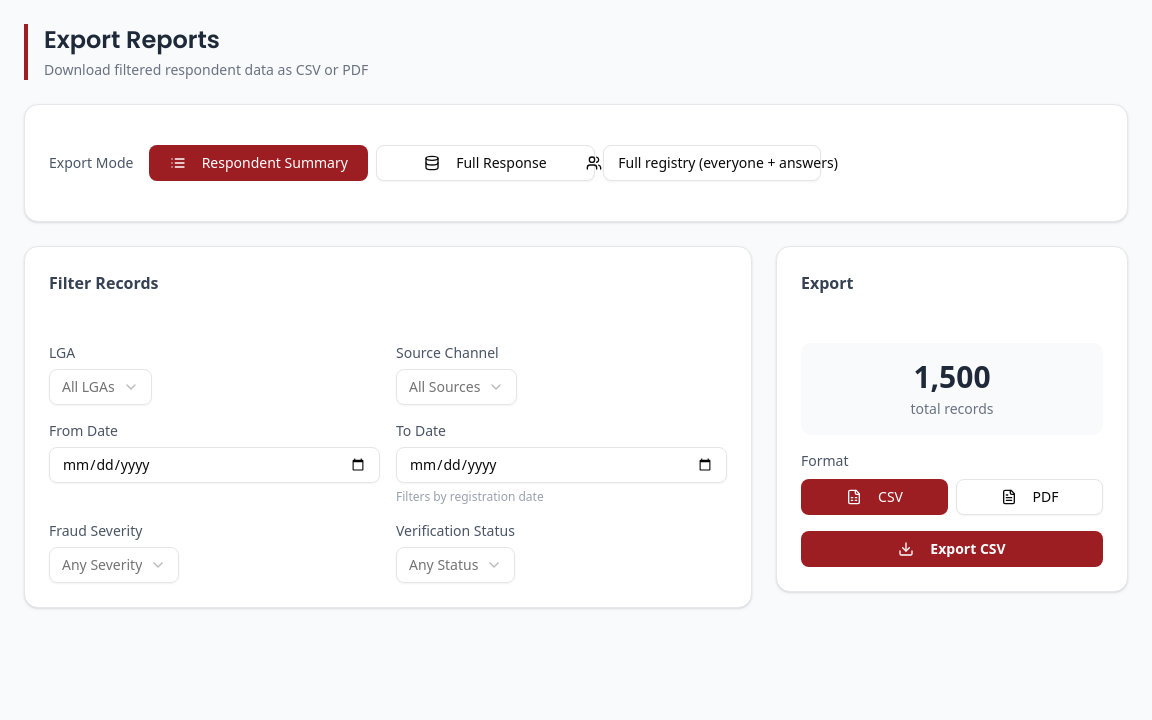
Test: ExportPage › PDF warning shown when count > 1000 and PDF selected
Note: Select PDF format
Click the button with test id "format-pdf" at x=1030, y=497, box [956,479,1103,515]
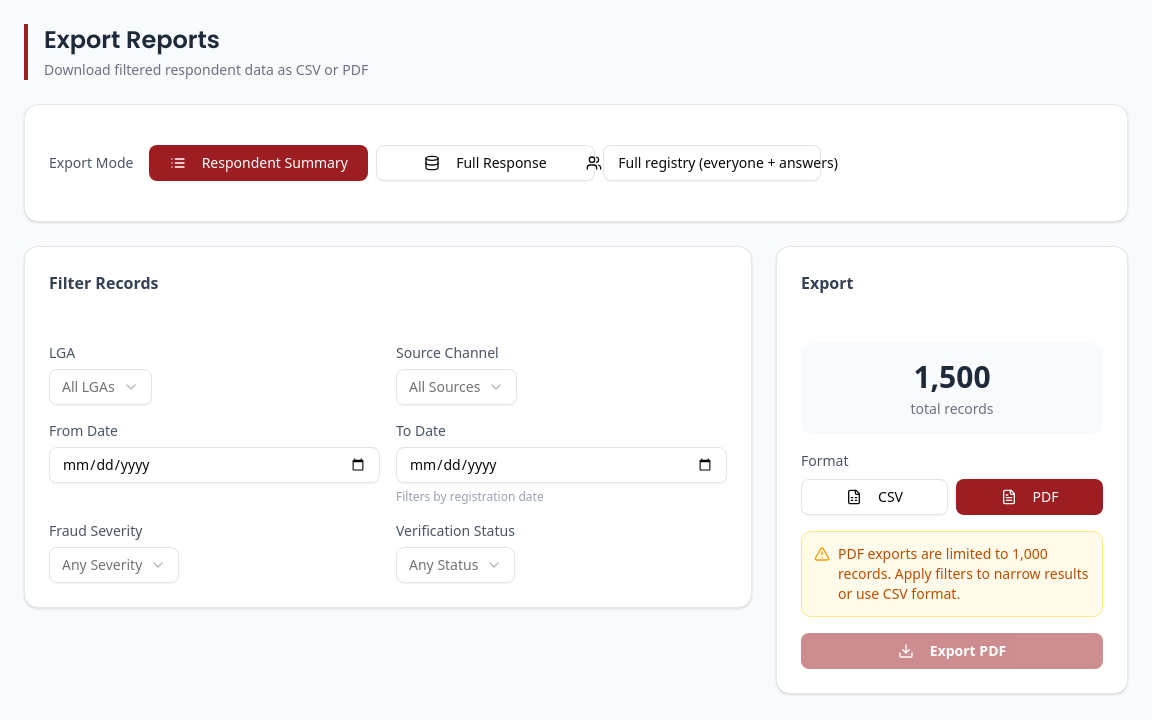
Now the element with test id "pdf-warning" is shown, box [801,531,1103,617]
Now the element with test id "pdf-warning" shows "PDF exports are limited to 1,000 records", box [838,544,1088,603]
